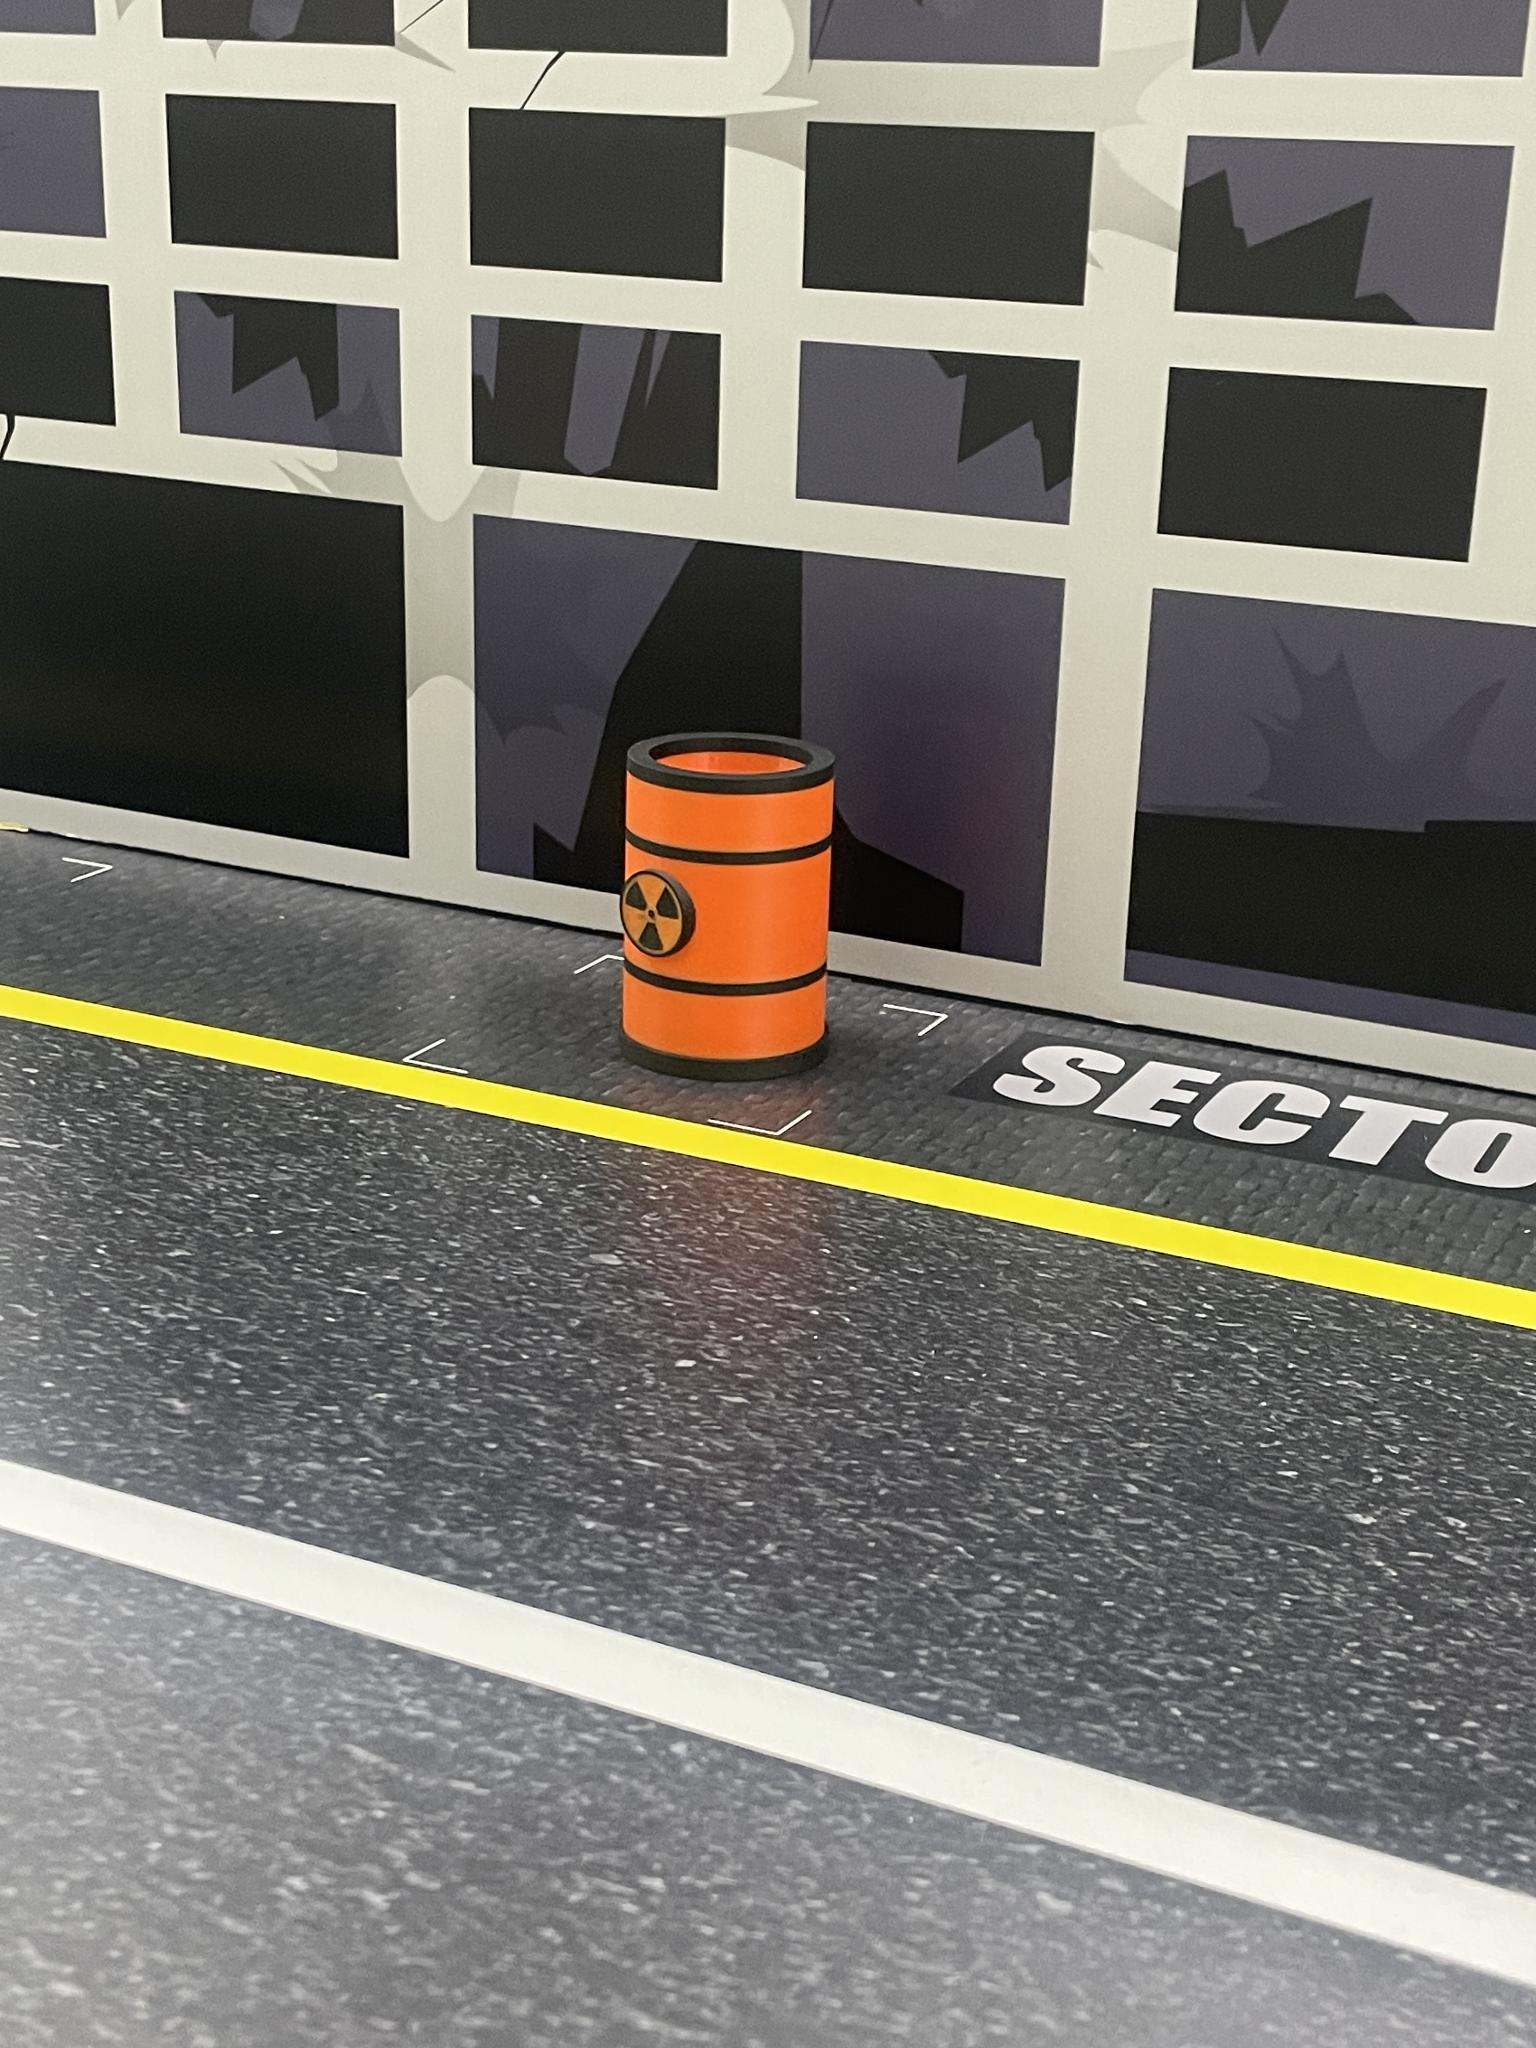Hazmat: (610, 724, 844, 1092)
